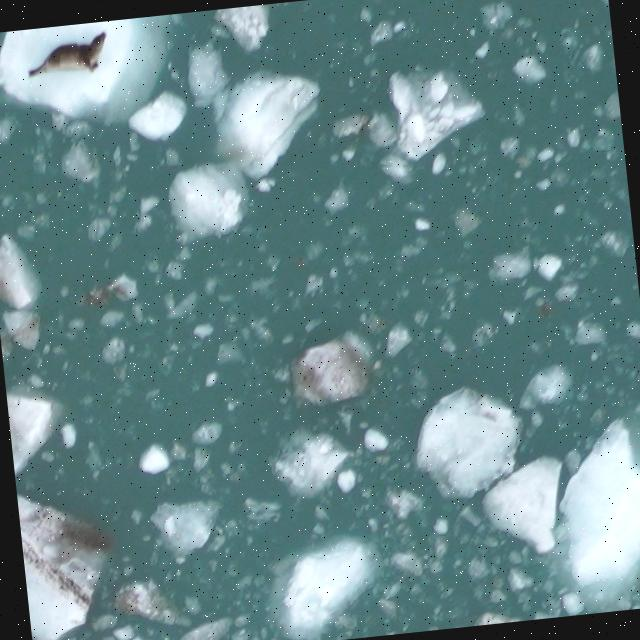seal: (20, 28, 114, 80)
